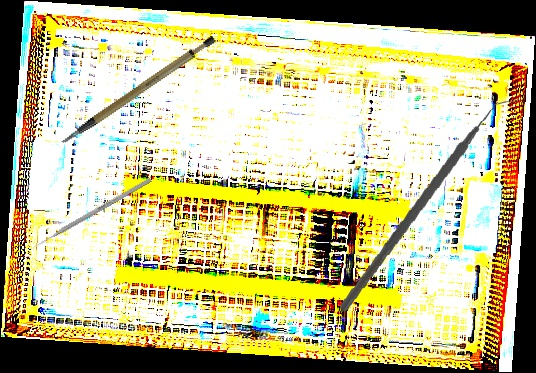Chopper: (339, 84, 521, 326)
Pusher: (28, 177, 152, 252)
Scalpel Handle: (46, 32, 228, 146)
